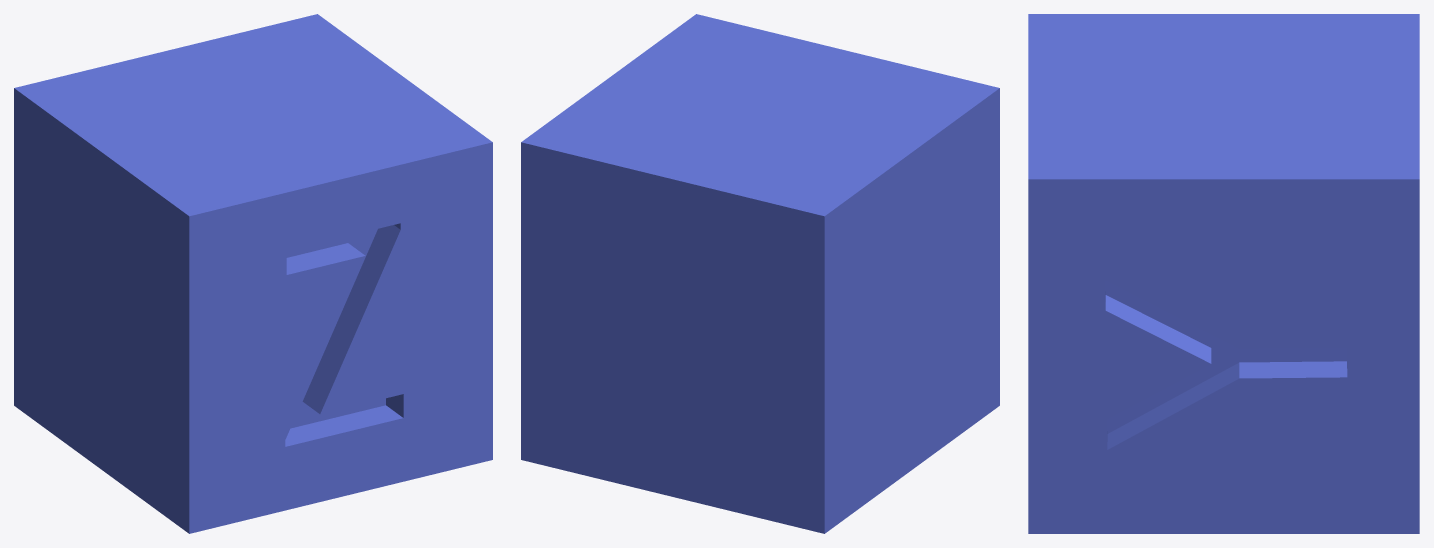
The picture shows the model from 3 angles, left to right: view 1: azimuth 30°, elevation 25°; view 2: azimuth 150°, elevation 25°; view 3: azimuth 270°, elevation 25°; orthographic projection. The views are drawn at different scales.
Parts seen in each view (by area): view 1: Mesh_0; view 2: Mesh_0; view 3: Mesh_0.
Part boxes in pixels (box(x1,y1,x2,y2)): Mesh_0: box(14, 14, 492, 533); Mesh_0: box(521, 14, 999, 533); Mesh_0: box(1028, 14, 1419, 533).
Size of the model in its own units: 20 by 20 by 20.
